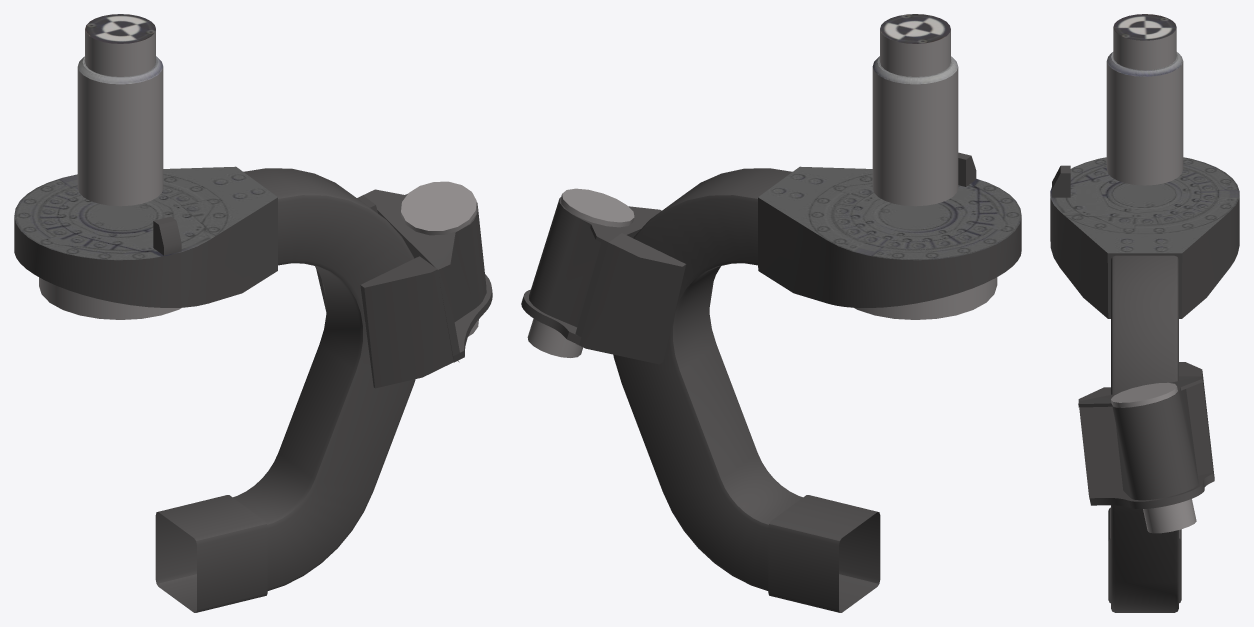
Rendered from amort_right_front.glb.
The picture shows the model from 3 angles, left to right: view 1: azimuth 30°, elevation 25°; view 2: azimuth 150°, elevation 25°; view 3: azimuth 270°, elevation 25°; orthographic projection. The views are drawn at different scales.
Parts seen in each view (by area): view 1: suspension.001; view 2: suspension.001; view 3: suspension.001.
Part boxes in pixels (<box>): suspension.001: <box>14,14,492,612</box>; suspension.001: <box>521,14,1021,612</box>; suspension.001: <box>1050,14,1239,612</box>.
Bounding box in the file's own units: 0.5324 × 0.6335 × 0.2085.
4 materials, 2 textured.
